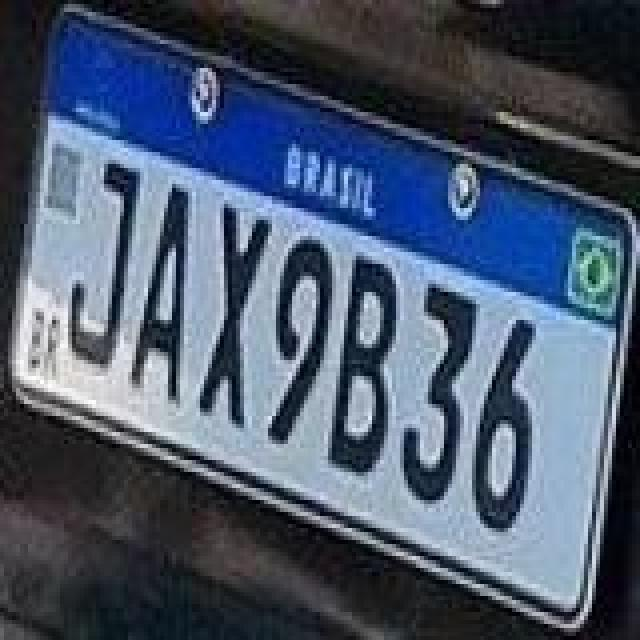3: (400, 280, 480, 512)
6: (470, 314, 538, 534)
9: (266, 236, 334, 444)
A: (126, 186, 194, 406)
B: (326, 254, 402, 474)
J: (66, 158, 142, 370)
X: (196, 196, 276, 428)
